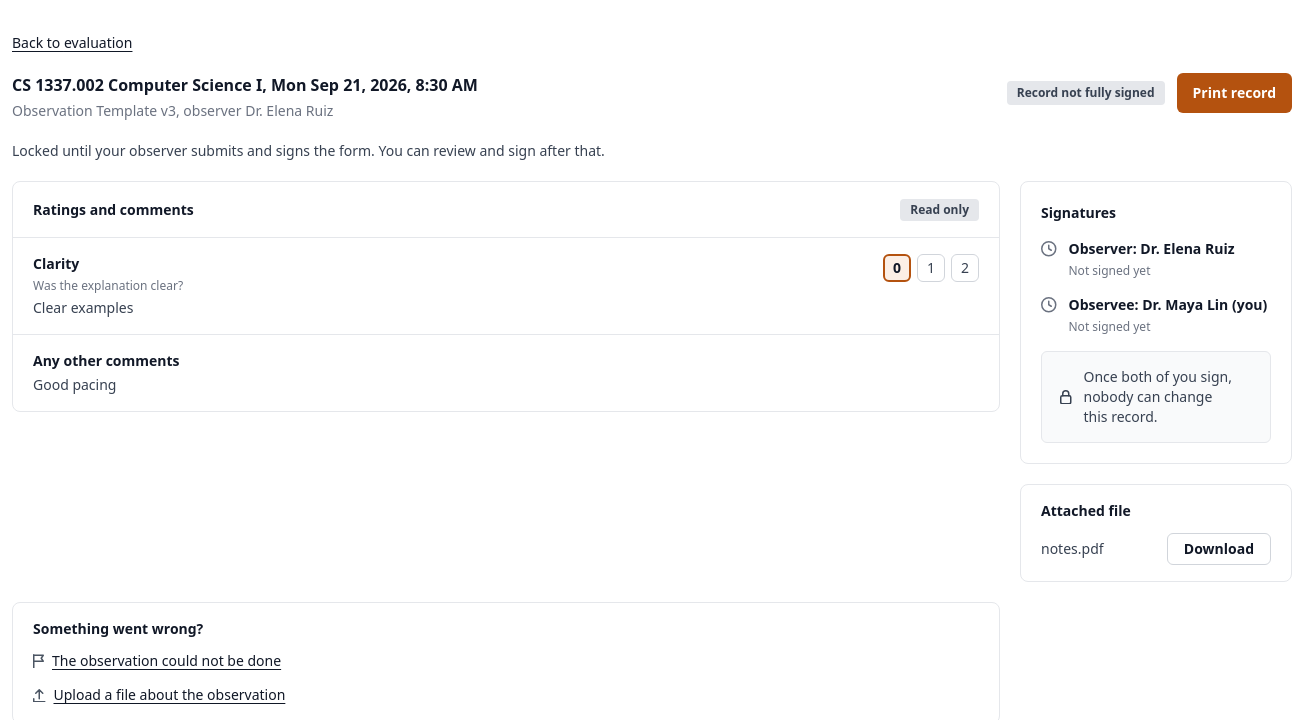
Test: shows the error message when the download fails
The image size is (1304, 720).
Click the button "Download" at x=1219, y=549, box [1167,533,1271,565]
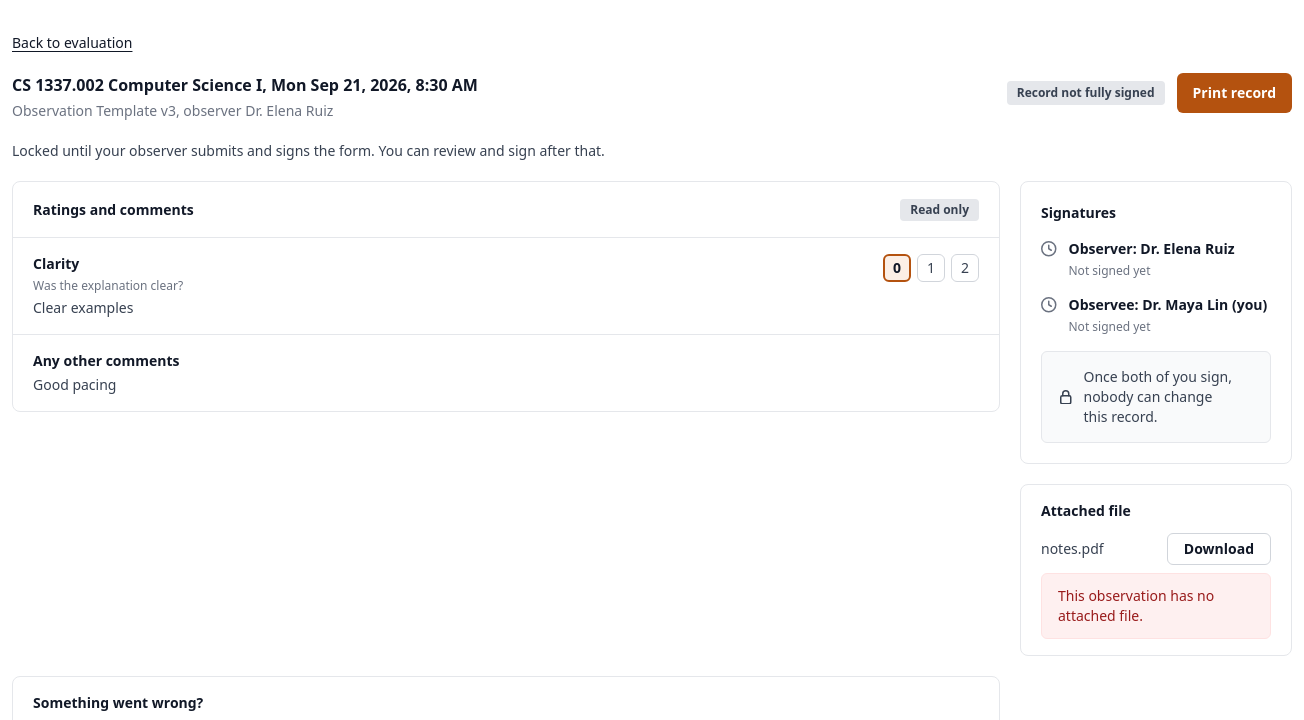
Result: the message "This observation has no attached file." is shown at [1041,573,1271,639]
